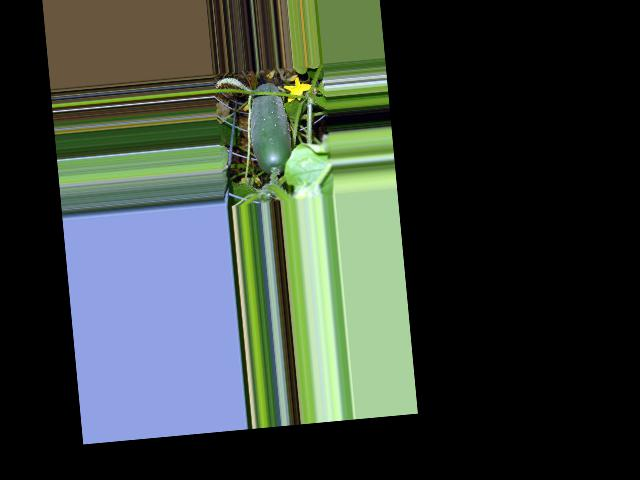cucumber: (245, 82, 293, 176)
